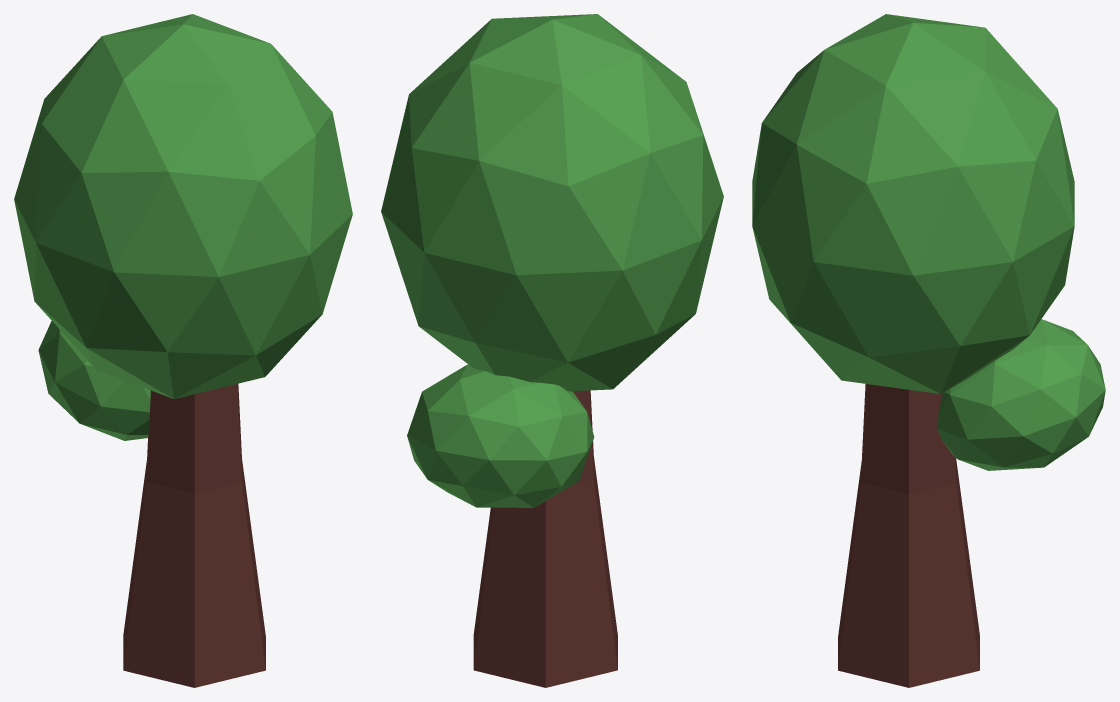
File: f_placeholderTree.fbx
3 views of the same model, side by side, from view 1: azimuth 30°, elevation 25°; view 2: azimuth 150°, elevation 25°; view 3: azimuth 270°, elevation 25° (orthographic).
Visible parts, largest first — view 1: Icosphere, Cylinder.003; view 2: Icosphere, Cylinder.003; view 3: Icosphere, Cylinder.003.
Boxes of the visible parts, x1,y1,x2,y2 form: Icosphere: (14, 14, 352, 440); Cylinder.003: (123, 384, 265, 687); Icosphere: (381, 14, 723, 507); Cylinder.003: (473, 390, 617, 687); Icosphere: (752, 14, 1105, 470); Cylinder.003: (838, 384, 979, 687).
Bounding box in the file's own units: 457 × 438 × 893.
